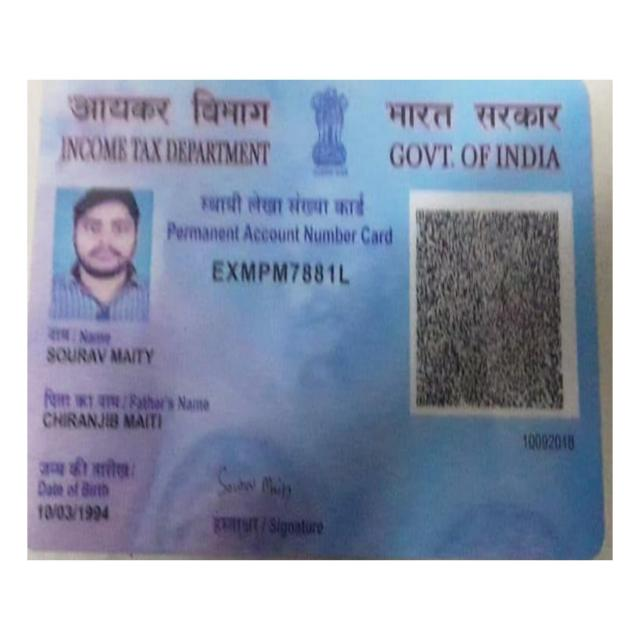pan_card: (27, 85, 601, 556)
